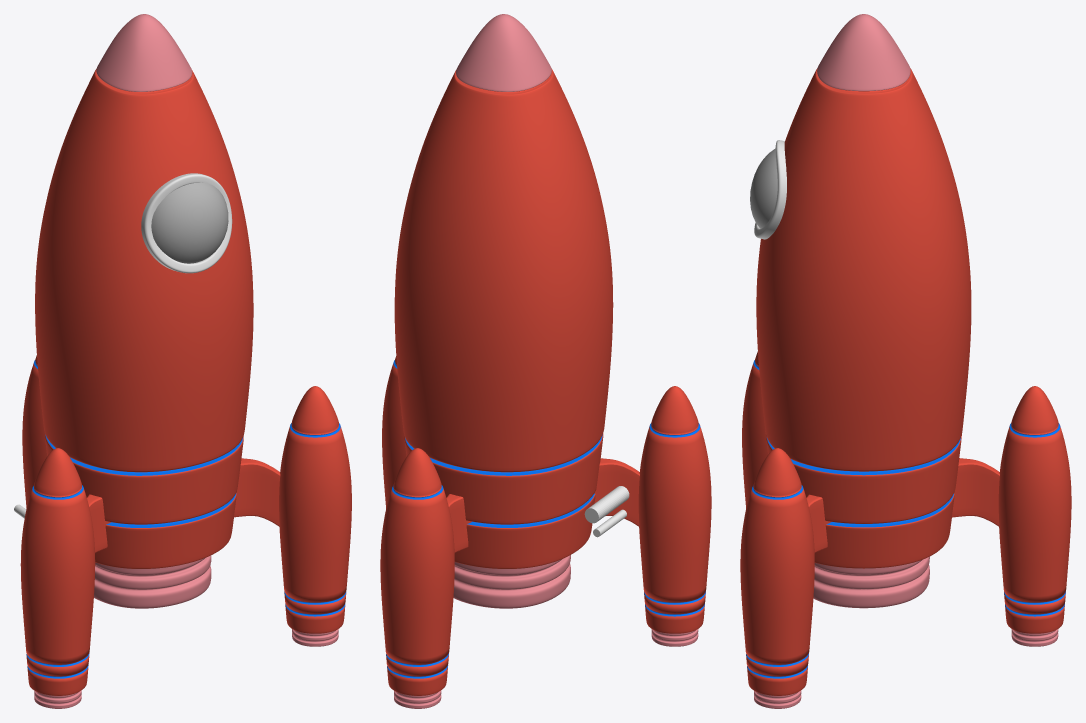
File: Rocket3.fbx
3 renders of one model, left to right at view 1: azimuth 30°, elevation 25°; view 2: azimuth 150°, elevation 25°; view 3: azimuth 270°, elevation 25°, orthographic.
Parts seen in each view (by area): view 1: RocketBody, Cube.001, Cube.003, Glasses, Frame, ConnectingPart.002, Cube.002, ConnectingPart; view 2: RocketBody, Cube.002, Cube.001, Cube.003, ConnectingPart, Holes, ConnectingPart.001; view 3: RocketBody, Cube.003, Cube.002, ConnectingPart.001, Cube.001, Glasses, Frame, ConnectingPart.002.
Part boxes in pixels (bbox=[...]): RocketBody: bbox=[35, 14, 253, 608]; Cube.001: bbox=[20, 448, 95, 708]; Cube.003: bbox=[279, 386, 351, 646]; Glasses: bbox=[151, 182, 228, 263]; Frame: bbox=[141, 173, 232, 273]; ConnectingPart.002: bbox=[234, 458, 280, 526]; Cube.002: bbox=[22, 355, 47, 508]; ConnectingPart: bbox=[87, 494, 110, 552]; RocketBody: bbox=[394, 14, 613, 608]; Cube.002: bbox=[380, 448, 454, 708]; Cube.001: bbox=[638, 386, 711, 646]; Cube.003: bbox=[382, 356, 406, 508]; ConnectingPart: bbox=[594, 458, 639, 526]; Holes: bbox=[584, 486, 629, 537]; ConnectingPart.001: bbox=[446, 494, 471, 552]; RocketBody: bbox=[756, 14, 971, 608]; Cube.003: bbox=[740, 448, 814, 708]; Cube.002: bbox=[998, 386, 1071, 646]; ConnectingPart.001: bbox=[952, 458, 999, 526]; Cube.001: bbox=[742, 351, 767, 508]; Glasses: bbox=[750, 149, 777, 228]; Frame: bbox=[754, 140, 786, 239]; ConnectingPart.002: bbox=[806, 494, 831, 552].
Size of the model in its own units: 37.96 by 70.25 by 33.92.
